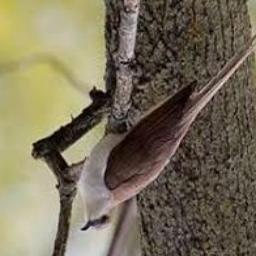Cuckoo: (80, 22, 256, 232)
